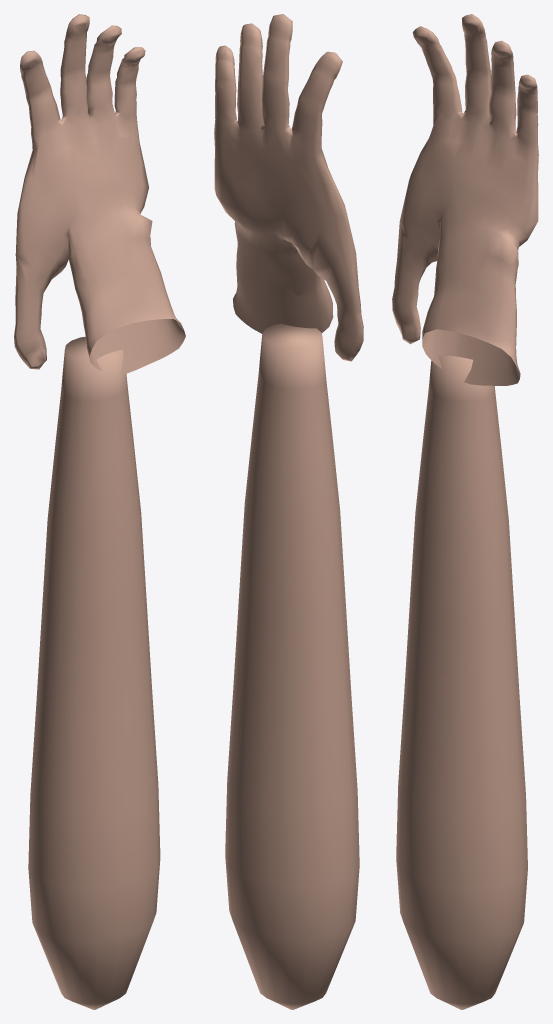
Rendered from blender-cc0-matched-grip-arm-v7.glb.
3 views of the same model, side by side, from view 1: azimuth 30°, elevation 25°; view 2: azimuth 150°, elevation 25°; view 3: azimuth 330°, elevation 25° (orthographic). The views are drawn at different scales.
Parts seen in each view (by area): view 1: CC0 Matched Grip Hand and Forearm | forearm, CC0 Matched Grip Hand and Forearm | hand; view 2: CC0 Matched Grip Hand and Forearm | forearm, CC0 Matched Grip Hand and Forearm | hand; view 3: CC0 Matched Grip Hand and Forearm | forearm, CC0 Matched Grip Hand and Forearm | hand.
Part boxes in pixels (<box>): CC0 Matched Grip Hand and Forearm | forearm: <box>28,336,160,1009</box>; CC0 Matched Grip Hand and Forearm | hand: <box>14,14,185,374</box>; CC0 Matched Grip Hand and Forearm | forearm: <box>225,324,359,1009</box>; CC0 Matched Grip Hand and Forearm | hand: <box>214,14,363,361</box>; CC0 Matched Grip Hand and Forearm | forearm: <box>396,355,527,1009</box>; CC0 Matched Grip Hand and Forearm | hand: <box>392,14,538,385</box>.
Size of the model in its own units: 0.086 by 0.54 by 0.058.
